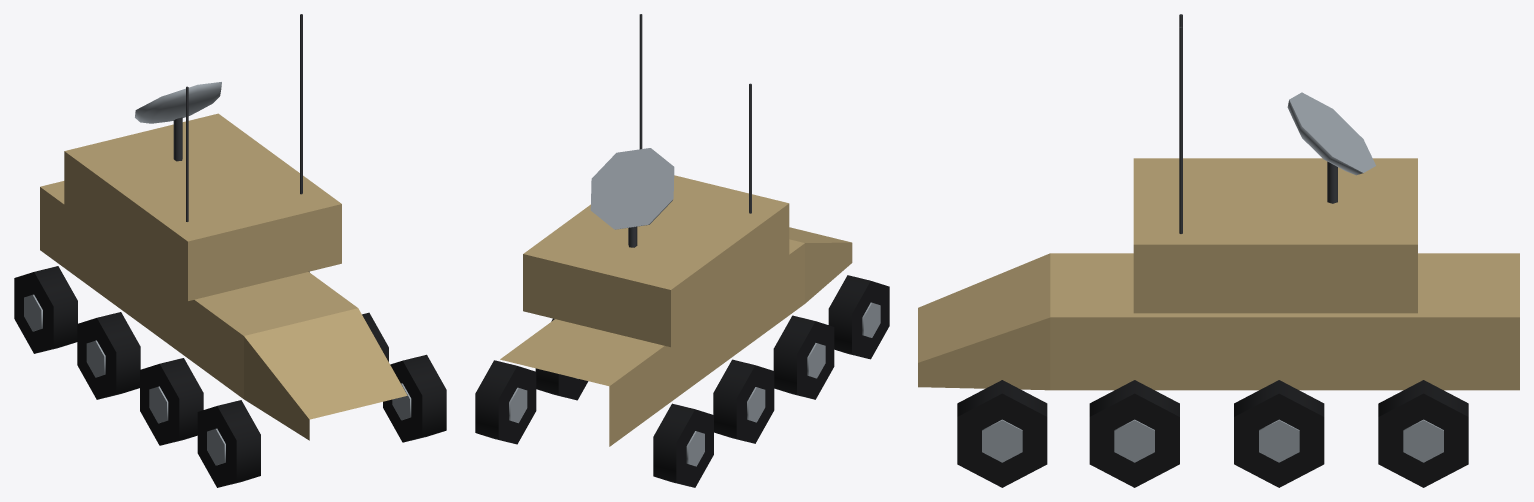
File: veh_ground_command_vehicle_a07_lod1.glb
3 views of the same model, side by side, from view 1: azimuth 30°, elevation 25°; view 2: azimuth 150°, elevation 25°; view 3: azimuth 270°, elevation 25° (orthographic). The views are drawn at different scales.
Visible parts, largest first — view 1: body, wheel_0, wheel_6, wheel_2, wheel_4, wheel_7, radar; view 2: body, radar, wheel_1, wheel_2, wheel_4, wheel_0, wheel_6, wheel_3; view 3: body, wheel_1, wheel_3, wheel_5, wheel_7, radar.
Boxes of the visible parts, x1=… form: body: x1=40, y1=14, x2=407, y2=440; wheel_0: x1=14, y1=266, x2=77, y2=353; wheel_6: x1=197, y1=400, x2=260, y2=487; wheel_2: x1=77, y1=312, x2=140, y2=399; wheel_4: x1=140, y1=358, x2=203, y2=445; wheel_7: x1=383, y1=354, x2=446, y2=442; radar: x1=135, y1=82, x2=221, y2=161; body: x1=500, y1=14, x2=852, y2=446; radar: x1=590, y1=148, x2=674, y2=247; wheel_1: x1=475, y1=360, x2=536, y2=444; wheel_2: x1=713, y1=359, x2=774, y2=443; wheel_4: x1=773, y1=315, x2=834, y2=399; wheel_0: x1=653, y1=403, x2=713, y2=487; wheel_6: x1=828, y1=275, x2=889, y2=359; wheel_3: x1=535, y1=318, x2=588, y2=400; body: x1=918, y1=14, x2=1519, y2=390; wheel_1: x1=1378, y1=380, x2=1468, y2=487; wheel_3: x1=1234, y1=380, x2=1324, y2=487; wheel_5: x1=1089, y1=380, x2=1179, y2=487; wheel_7: x1=957, y1=380, x2=1047, y2=487; radar: x1=1287, y1=92, x2=1375, y2=203.
Size of the model in its own units: 2.98 by 5.05 by 6.35.
